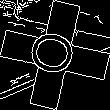O_E: (25, 28, 85, 82)
